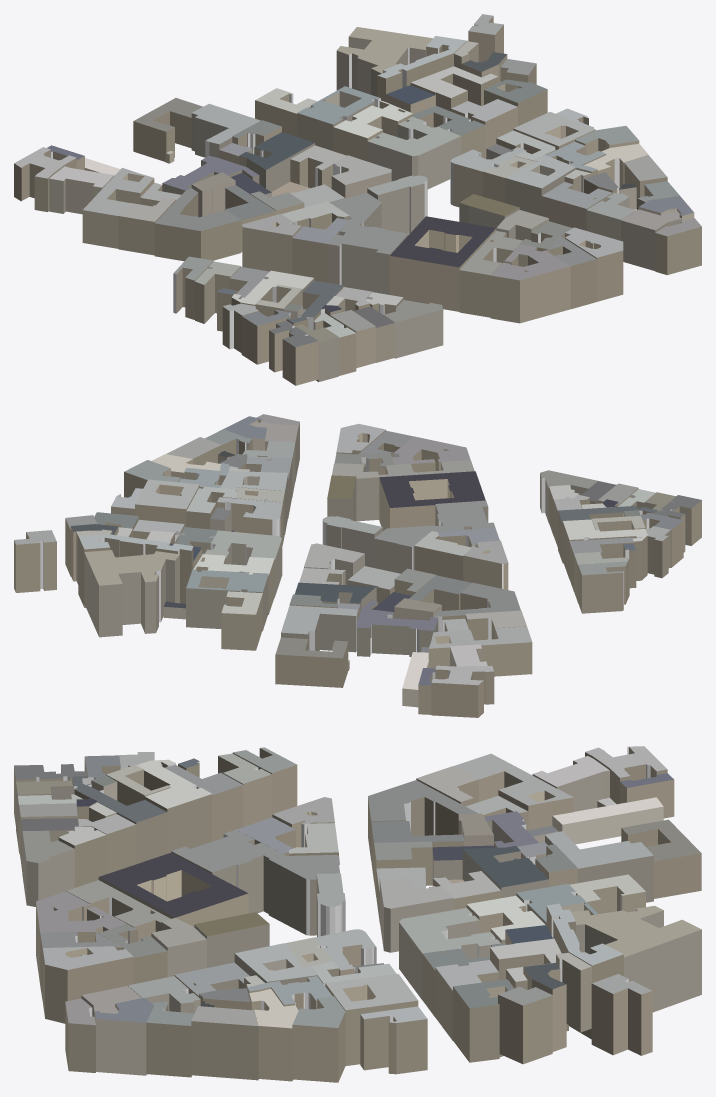
3 views of the same model, one above another, from view 1: azimuth 30°, elevation 25°; view 2: azimuth 150°, elevation 25°; view 3: azimuth 270°, elevation 25° (orthographic). The views are drawn at different scales.
Parts seen in each view (by area): view 1: tuile; view 2: tuile; view 3: tuile.
Part boxes in pixels (x1,y1,x2,y2): tuile: (14,14,701,385); tuile: (14,414,701,717); tuile: (14,746,701,1082).
Bounding box in the file's own units: 270 × 40.79 × 267.
